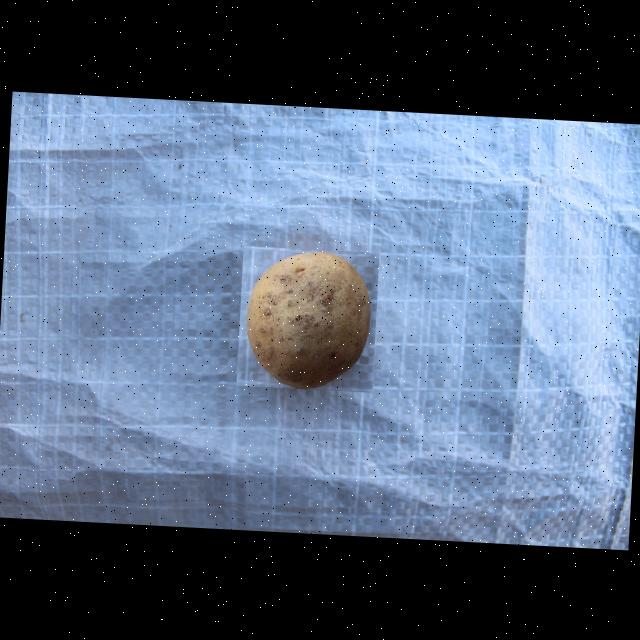Diseased-fungal potato: (235, 245, 378, 392)
